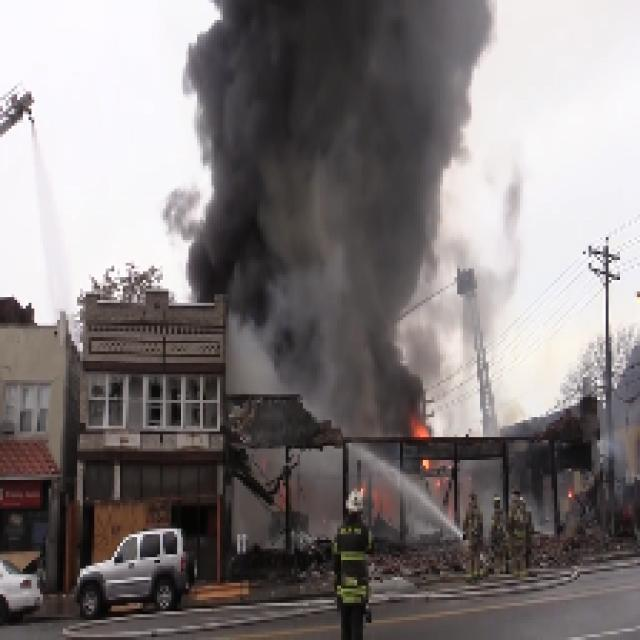smoke: (209, 0, 446, 398)
